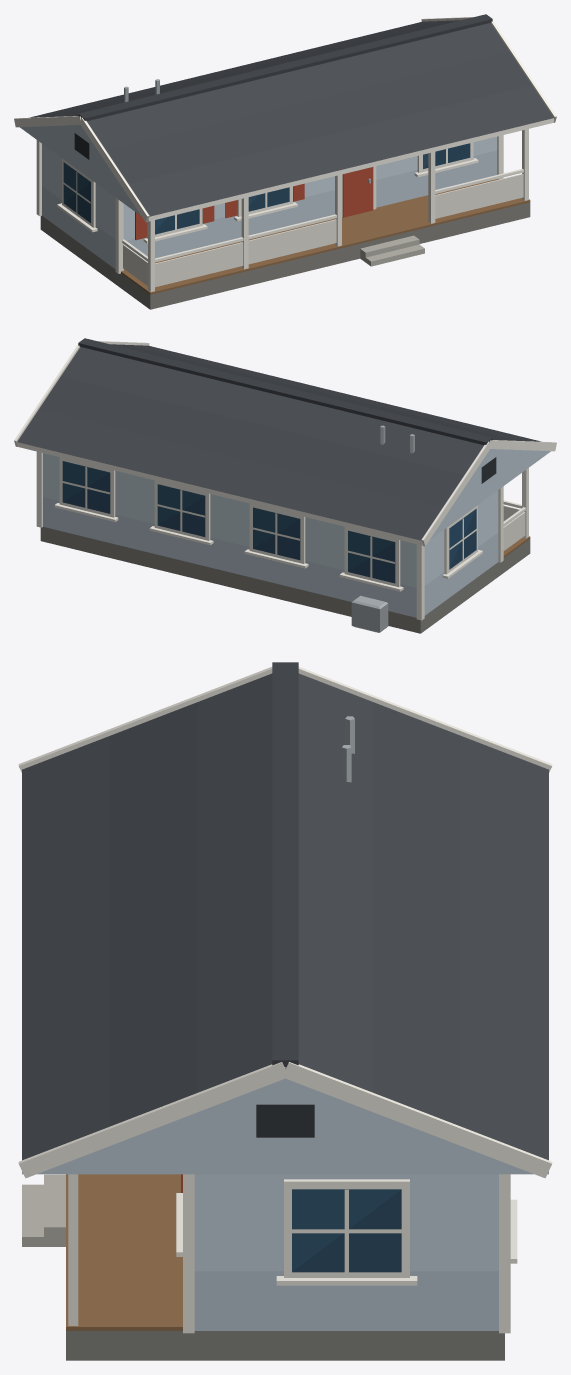
File: house_12x6.glb
The picture shows the model from 3 angles, top to bottom: view 1: azimuth 30°, elevation 25°; view 2: azimuth 150°, elevation 25°; view 3: azimuth 270°, elevation 25°; orthographic projection. The views are drawn at different scales.
Visible parts, largest first — view 1: house; view 2: house; view 3: house.
Part boxes in pixels (x1,y1,x2,y2): house: [14, 14, 556, 309]; house: [14, 338, 556, 633]; house: [18, 662, 552, 1360].
Bounding box in the file's own units: 12.93 × 4.81 × 7.29.
